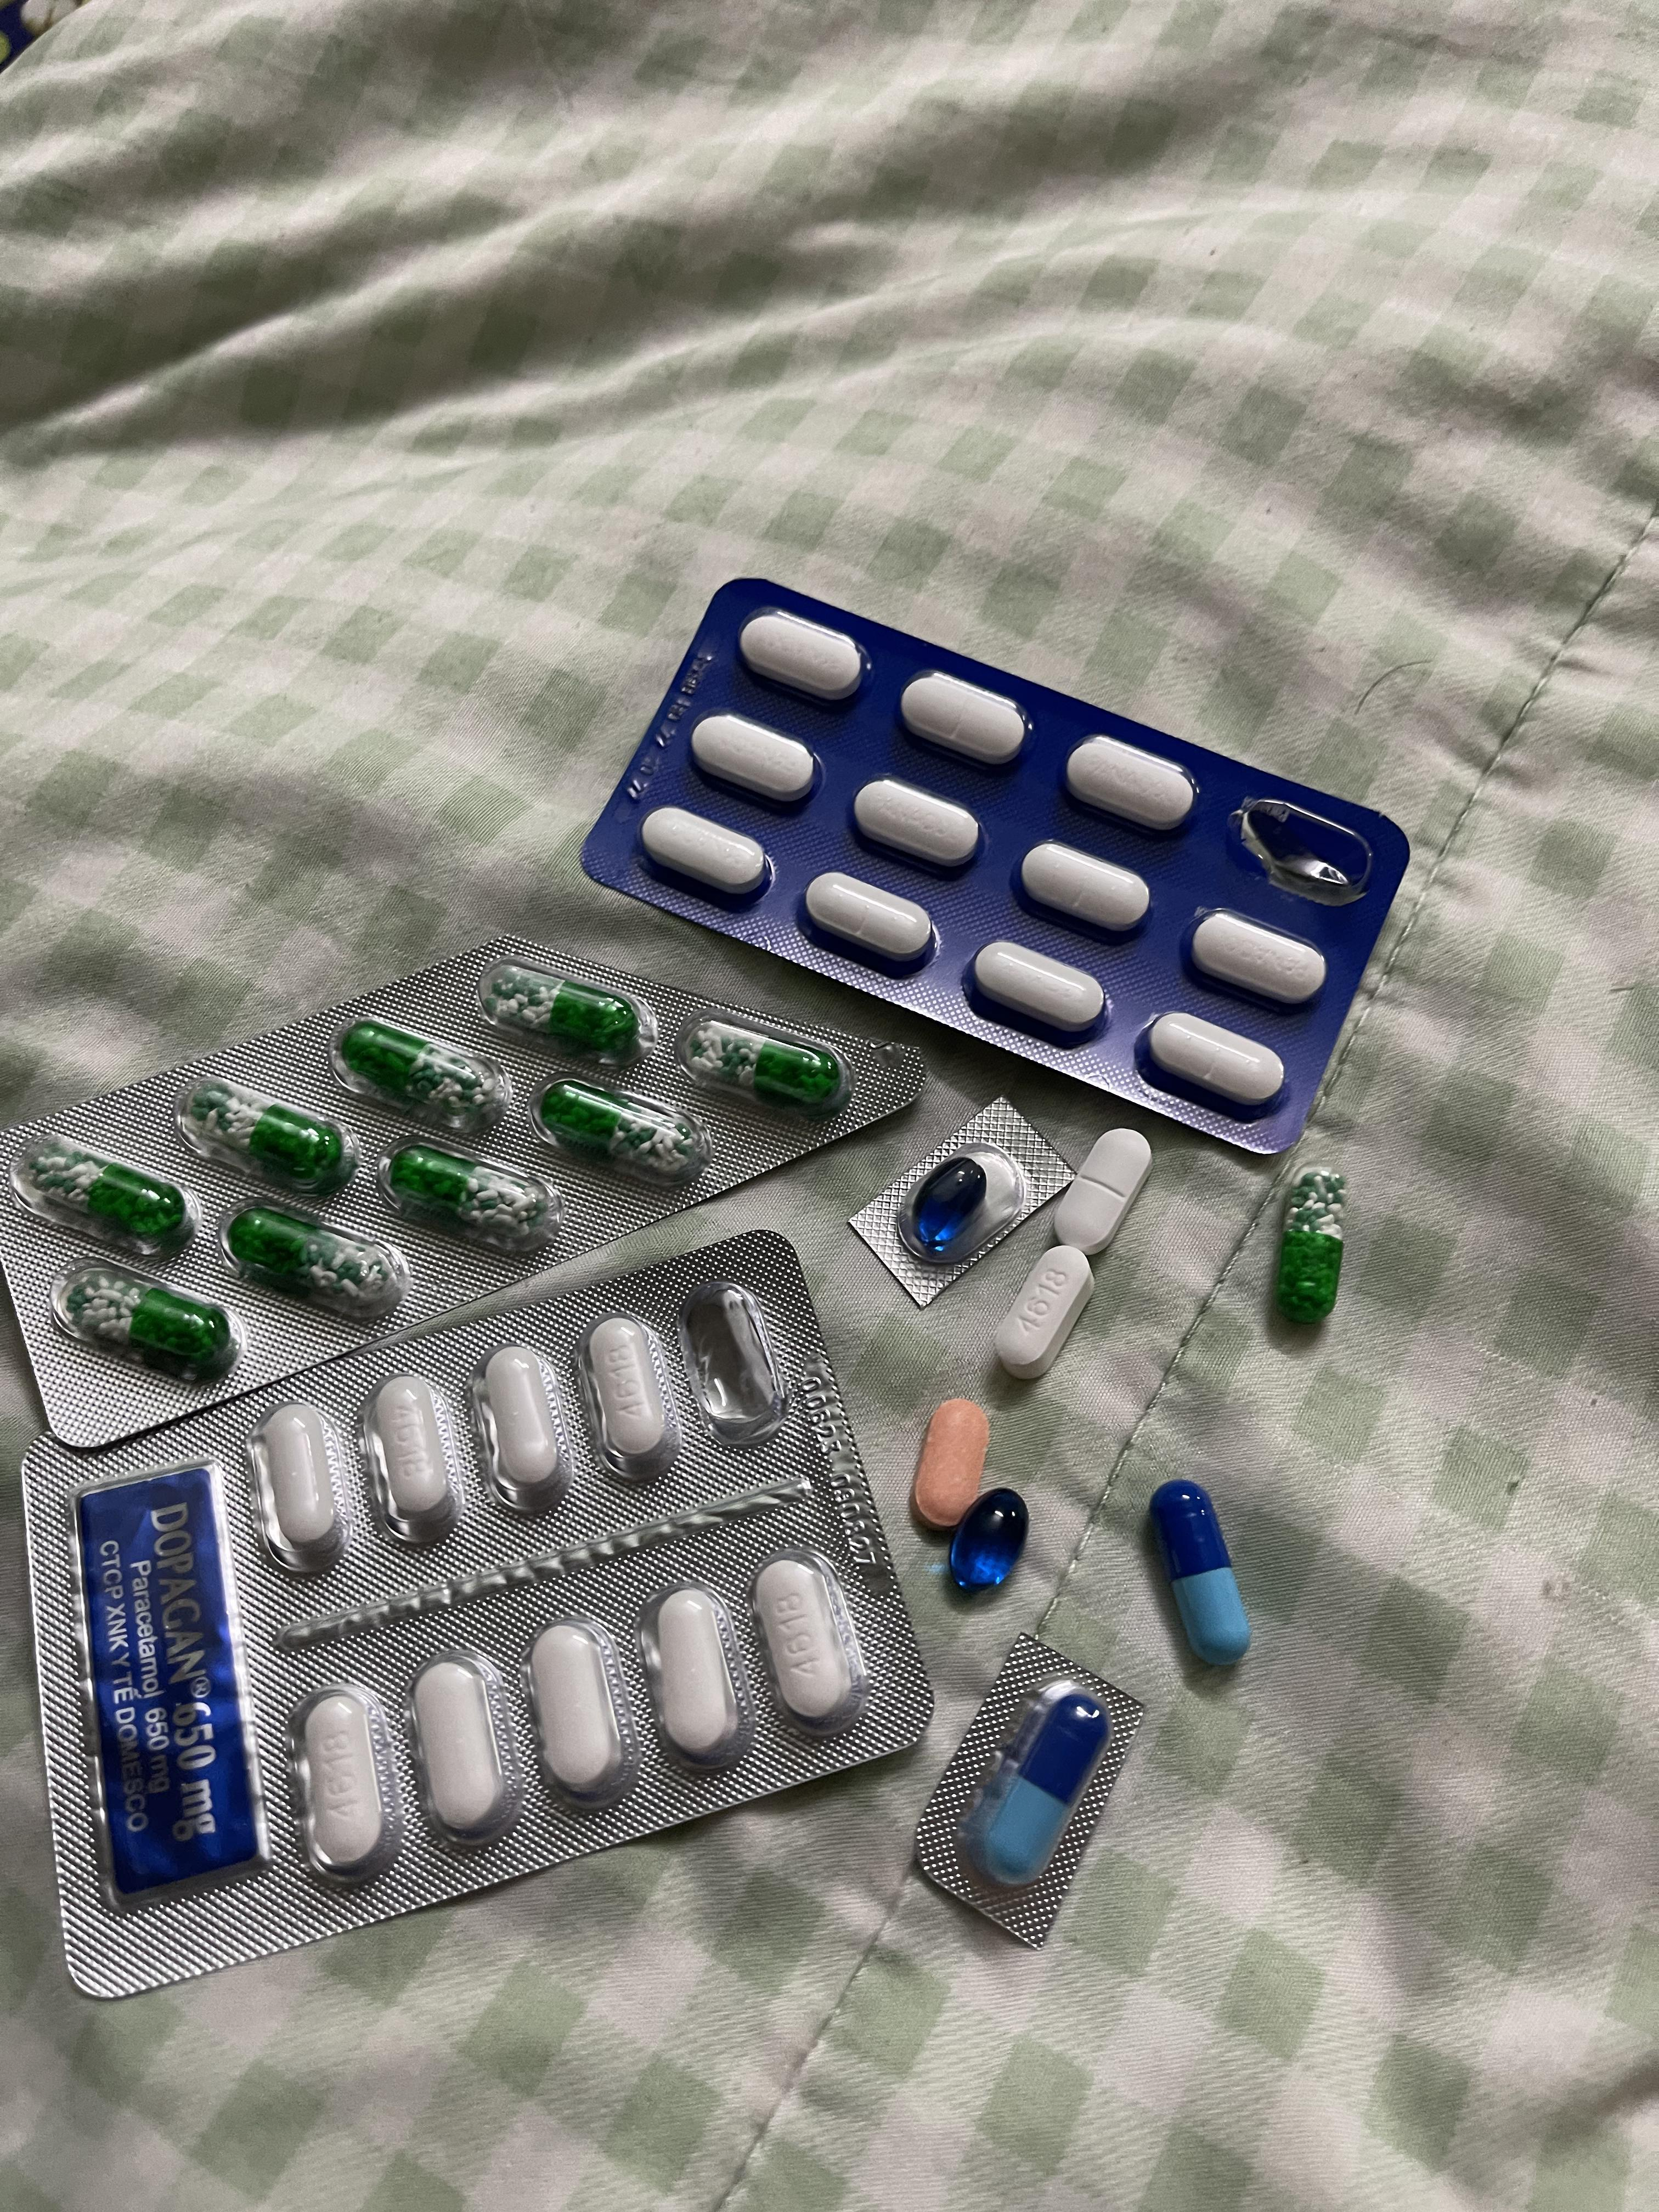Lincomyxin_500mg: (948, 1487, 1030, 1594), (911, 1158, 992, 1252)
Loratadine_10mg: (913, 1400, 992, 1524)
Paracetamol_350mg: (1187, 909, 1330, 1005), (1147, 1012, 1288, 1104), (1063, 735, 1199, 831), (1054, 1127, 1154, 1252), (1019, 840, 1152, 932), (971, 941, 1105, 1031), (901, 672, 1028, 765), (805, 873, 934, 963), (739, 610, 864, 700), (852, 779, 979, 867), (641, 806, 769, 895), (690, 714, 817, 801)
Paracetamol_500mg: (286, 1683, 408, 1893), (406, 1648, 525, 1850), (525, 1618, 643, 1813), (742, 1555, 861, 1742), (573, 1315, 688, 1482), (469, 1346, 579, 1514), (361, 1376, 462, 1545), (247, 1404, 350, 1569), (652, 1590, 741, 1759), (993, 1244, 1100, 1379)
Paracetamol_650mg: (227, 1207, 403, 1308), (63, 1271, 228, 1374), (535, 1082, 702, 1181), (340, 1024, 505, 1123), (389, 1148, 552, 1245), (24, 1143, 186, 1240), (188, 1083, 345, 1177), (690, 1024, 838, 1111), (488, 970, 640, 1054), (1276, 1169, 1349, 1327)
pill: (967, 1688, 1108, 1890), (1147, 1475, 1253, 1665)
